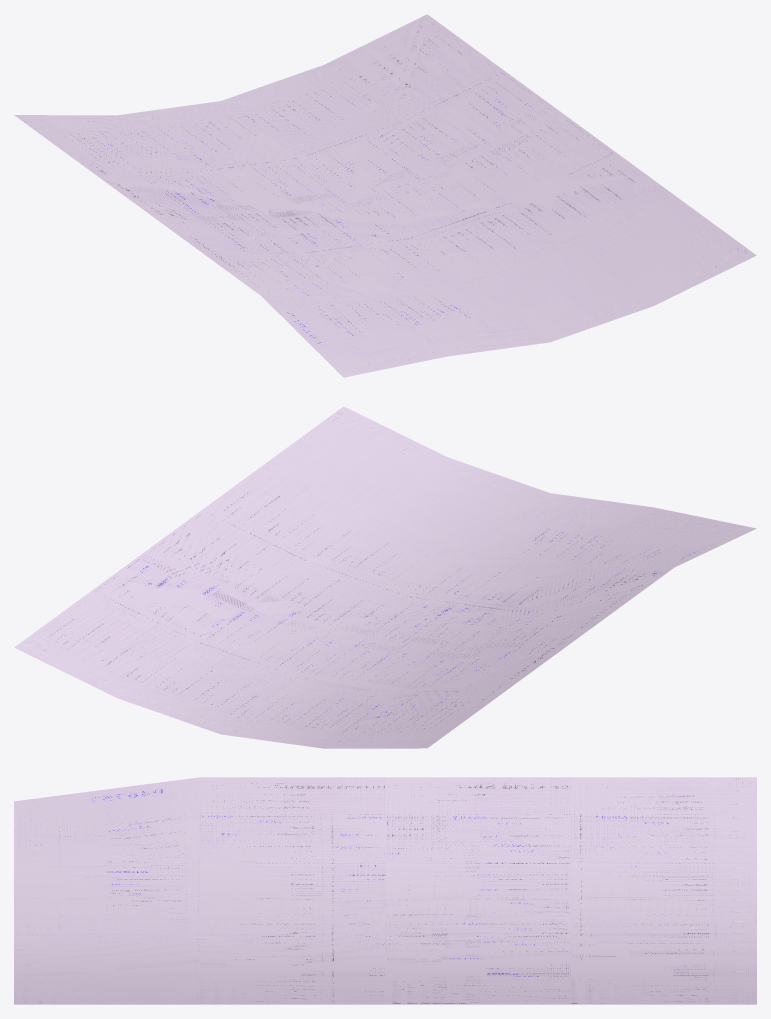
File: sheet+texture.fbx
3 views of the same model, one above another, from view 1: azimuth 30°, elevation 25°; view 2: azimuth 150°, elevation 25°; view 3: azimuth 270°, elevation 25° (orthographic). The views are drawn at different scales.
Parts seen in each view (by area): view 1: paper2; view 2: paper2; view 3: paper2.
Boxes of the visible parts, left/top/right/bottom form: paper2: left=14, top=14, right=756, bottom=377; paper2: left=14, top=406, right=756, bottom=748; paper2: left=14, top=777, right=756, bottom=1004.
Size of the model in its own units: 12.49 by 1.05 by 17.25.
Materials: 1 (1 with a texture image).
